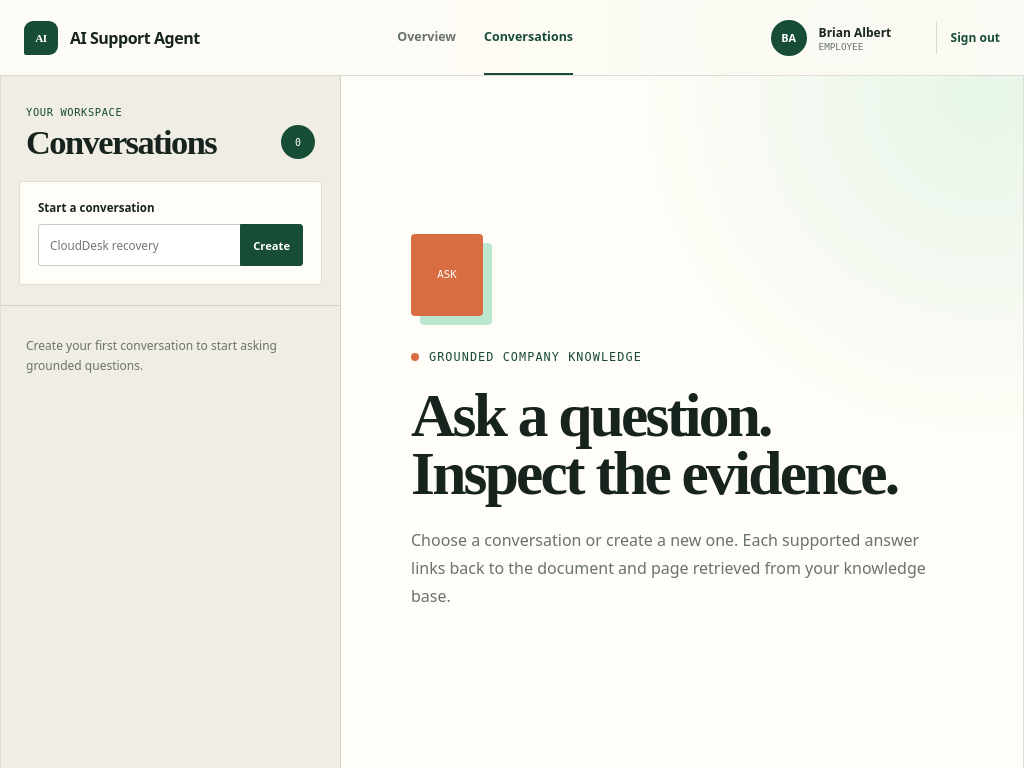
conversation workspace › creates a named conversation and opens its empty history
Check: the heading "Conversations" is shown, box [26,125,216,159]
Check: the text "Create your first conversation to start asking grounded questions." is shown, box [26,337,277,374]
Type "  CloudDesk recovery demo  " into the field labelled "Start a conversation" at (139, 245), box [38,224,240,266]
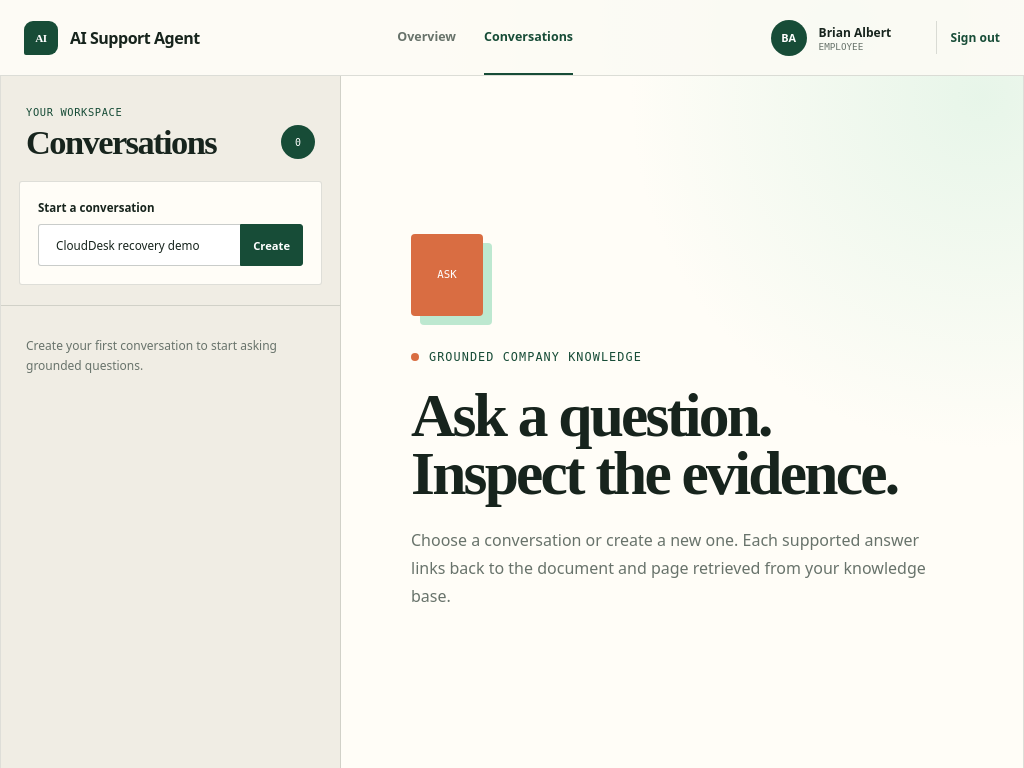
Click the button "Create" at (272, 245), box [240,224,303,266]
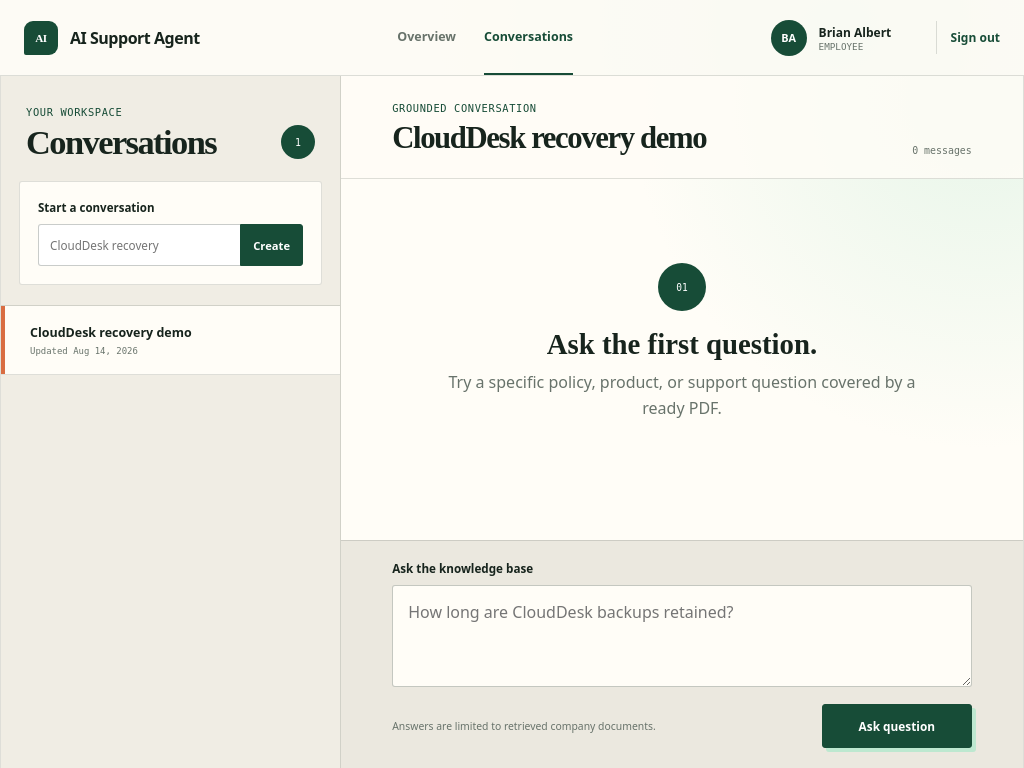
Check: the heading "CloudDesk recovery demo" is shown, box [392,121,706,156]
Check: the heading "Ask the first question." is shown, box [547,328,817,361]
